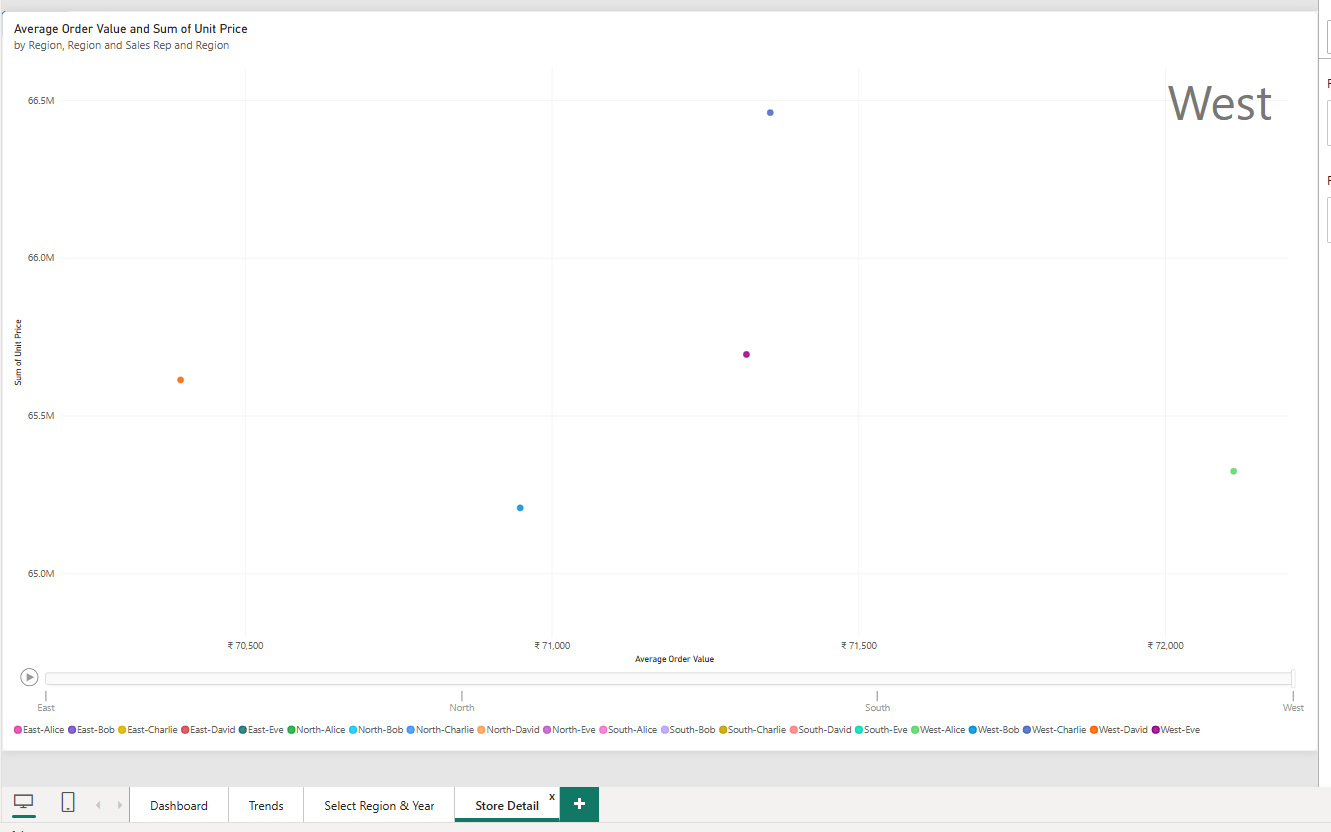

What the dashboard file says about the page in this screenshot:
{"tool":"powerbi","page":{"name":"Store Detail","canvas":[1920,1080],"ordinal":3},"visuals":[{"type":"actionButton","box":[0,0,100,40],"z":0},{"type":"scatterChart","fields":{"Category":["Store.Region"],"Play":["Sales.Region"],"Series":["Store.Region and Sales Rep"],"X":["Sales.Average Order Value"],"Y":["Sum(Sales.Unit Price)"]},"box":[0,0,1920,1079.6],"z":1000}]}

Visuals, with their boxes in screenshot pixels (x1, y1, x2, y2):
actionButton: select_region(0, 0, 68, 17)
scatterChart - Store.Region x Sales.Region: select_region(0, 0, 1313, 728)
